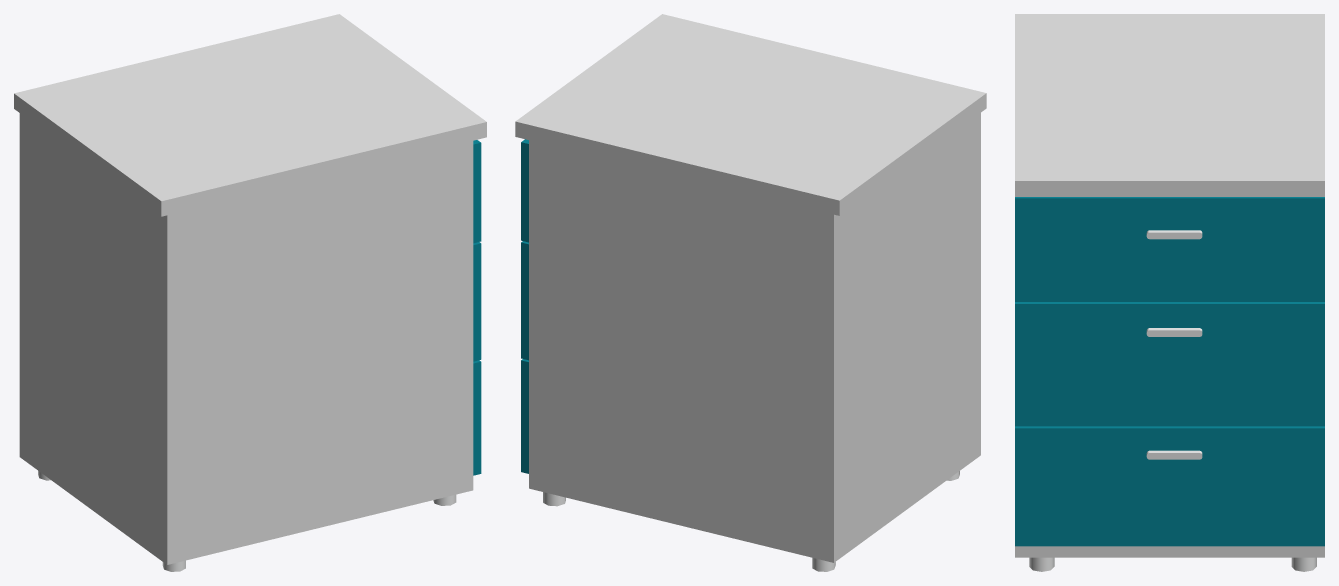
File: Droor.fbx
The picture shows the model from 3 angles, left to right: view 1: azimuth 30°, elevation 25°; view 2: azimuth 150°, elevation 25°; view 3: azimuth 270°, elevation 25°; orthographic projection. The views are drawn at different scales.
Visible parts, largest first — view 1: Droor; view 2: Droor; view 3: Droor.
Part boxes in pixels (left/top/right/bottom): Droor: left=14, top=14, right=486, bottom=571; Droor: left=515, top=14, right=986, bottom=571; Droor: left=1015, top=14, right=1324, bottom=571.
Bounding box in the file's own units: 57.02 × 63.25 × 44.34.
